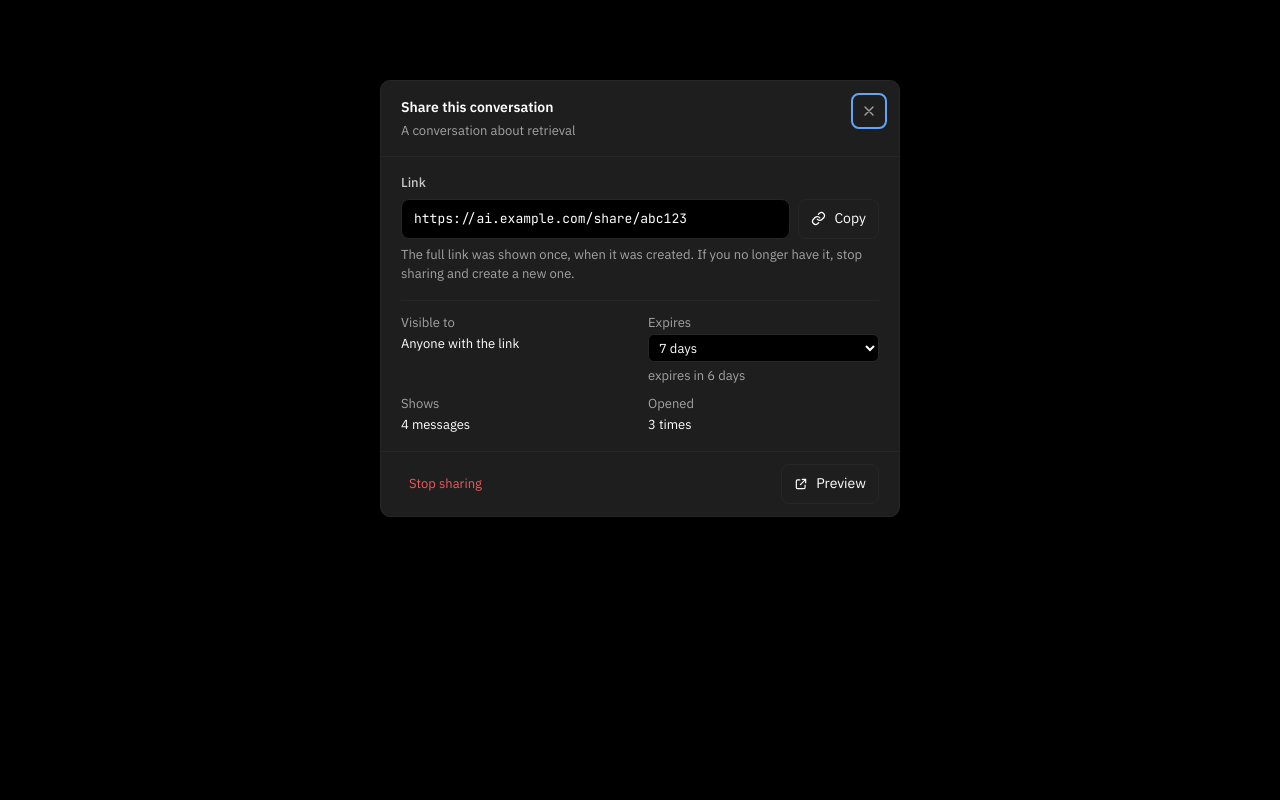
once a link exists › tells the truth when the browser refuses the clipboard
Expected: the field named "Share link" is shown, [401,199,790,239]
What coordinates should you click on to do the following:
click the button "Copy"
I would click on:
 (839, 219)
Its box is [798,199,879,239].
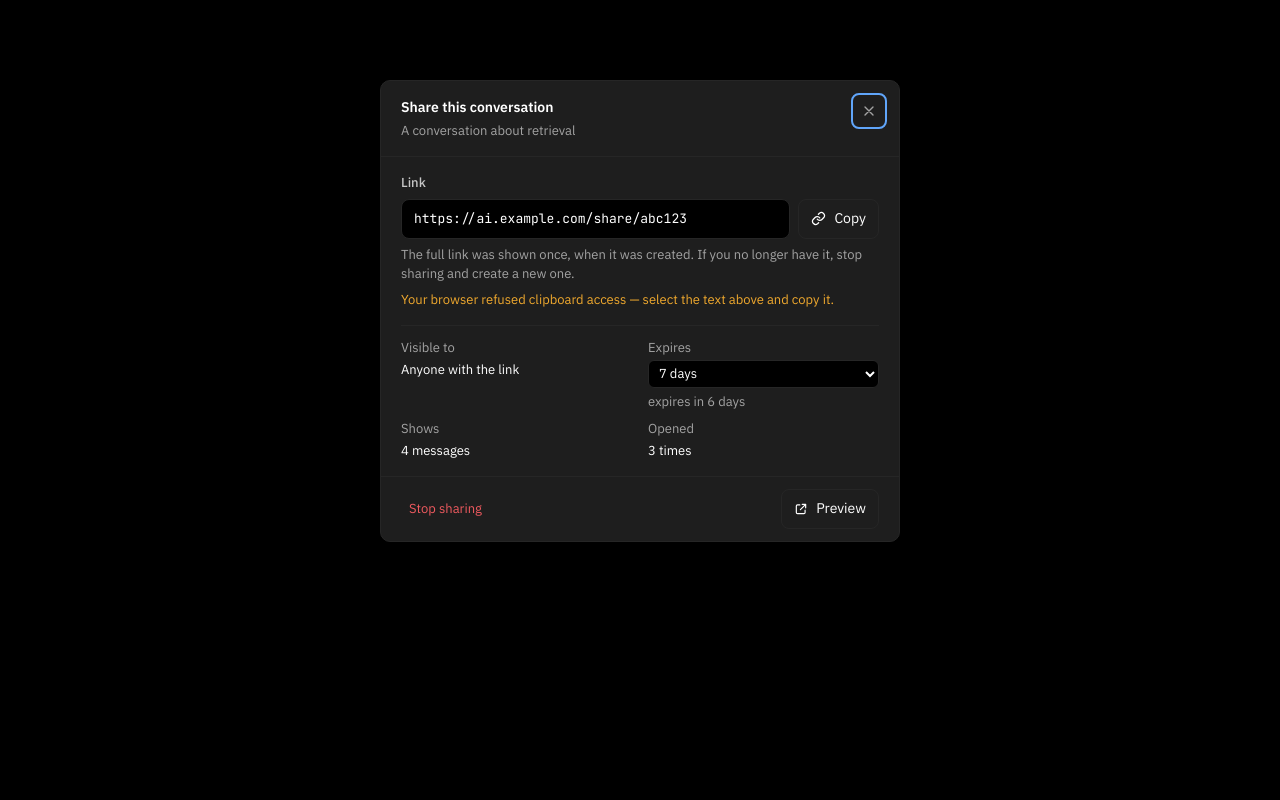
Expected: the field named "Share link" is shown, [401,199,790,239]
Result: the text "refused clipboard access" is shown 2 times
